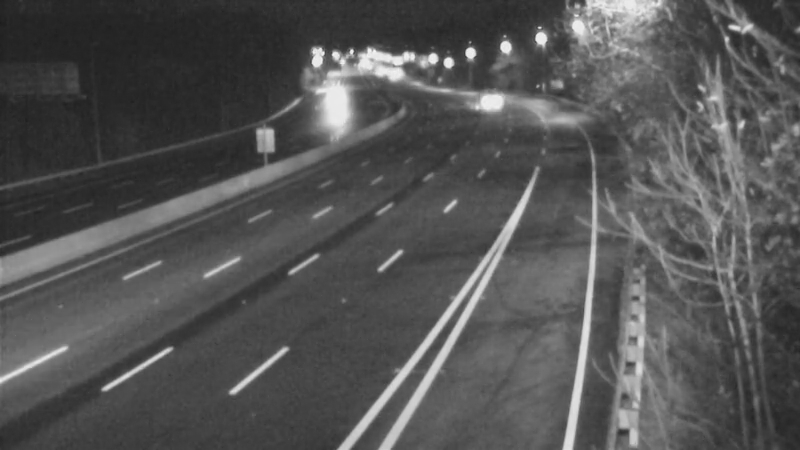vehicle: (464, 77, 514, 127), (305, 71, 355, 121)
